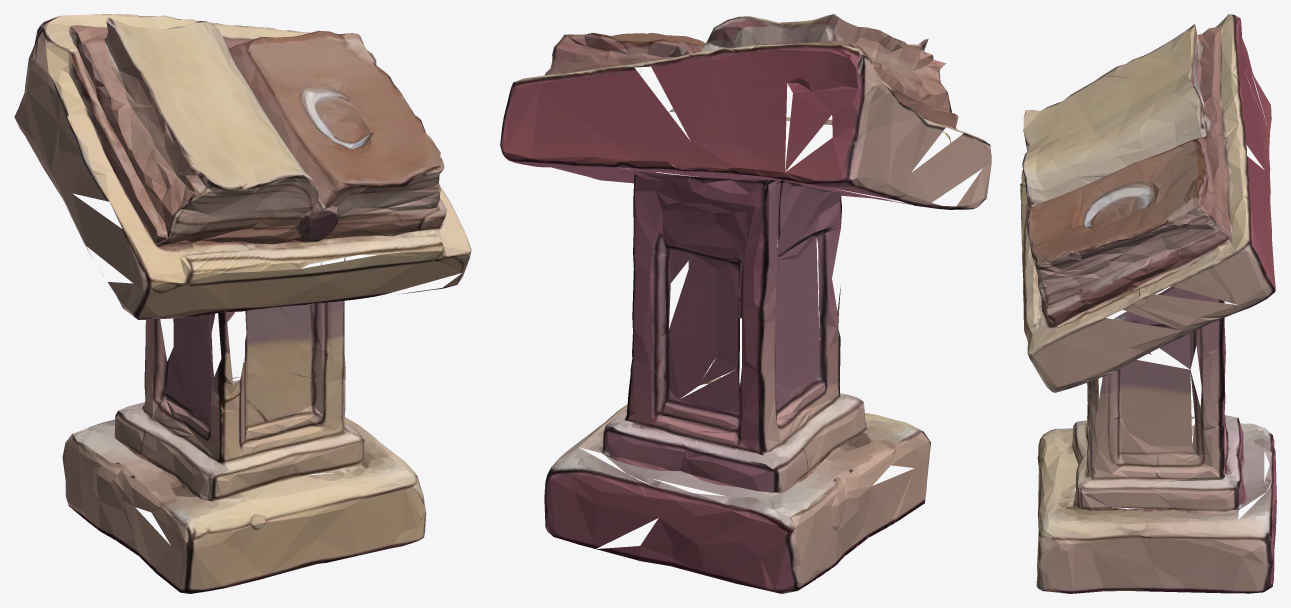
Rendered from lectern.glb.
3 renders of one model, left to right at view 1: azimuth 30°, elevation 25°; view 2: azimuth 150°, elevation 25°; view 3: azimuth 270°, elevation 25°, orthographic. The views are drawn at different scales.
Parts seen in each view (by area): view 1: geometry_0; view 2: geometry_0; view 3: geometry_0.
Boxes of the visible parts, box(x1,y1,x2,y2) form: geometry_0: box(14, 14, 471, 593); geometry_0: box(500, 14, 991, 593); geometry_0: box(1020, 14, 1276, 593).
Size of the model in its own units: 0.95 by 1.39 by 0.6893.
Materials: 1 (1 with a texture image).
